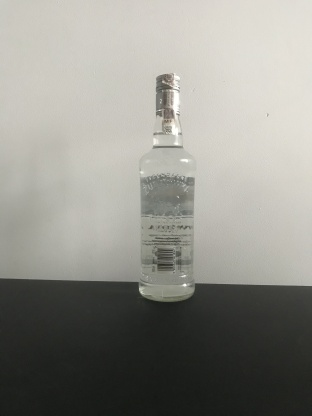nakretka: (154, 70, 182, 117)
